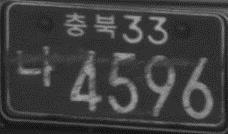3: (121, 14, 143, 43), (147, 15, 168, 44)
4: (68, 49, 102, 110)
5: (107, 52, 138, 114)
6: (182, 57, 213, 119)
9: (144, 54, 177, 116)
나: (15, 46, 54, 87)
충북_O: (65, 12, 117, 39)
